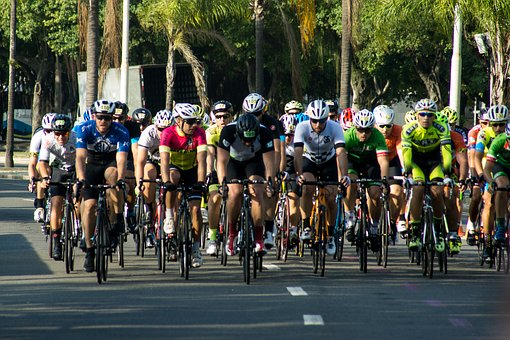bikerider: (70, 96, 143, 281), (394, 97, 467, 277), (289, 100, 354, 281), (159, 102, 215, 283)
